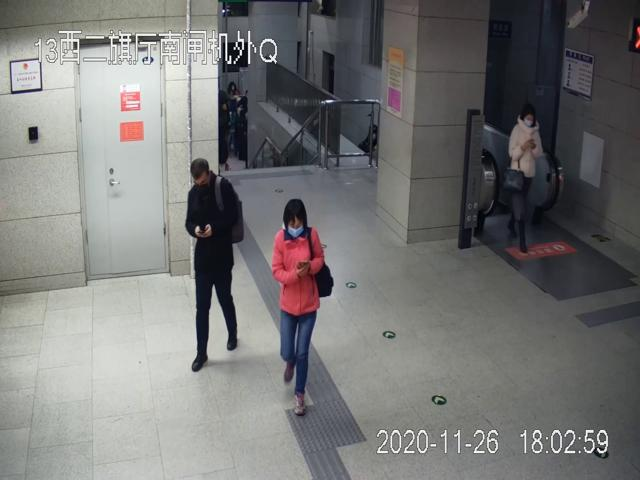person: (270, 192, 335, 418), (183, 153, 244, 375), (504, 102, 546, 256)
